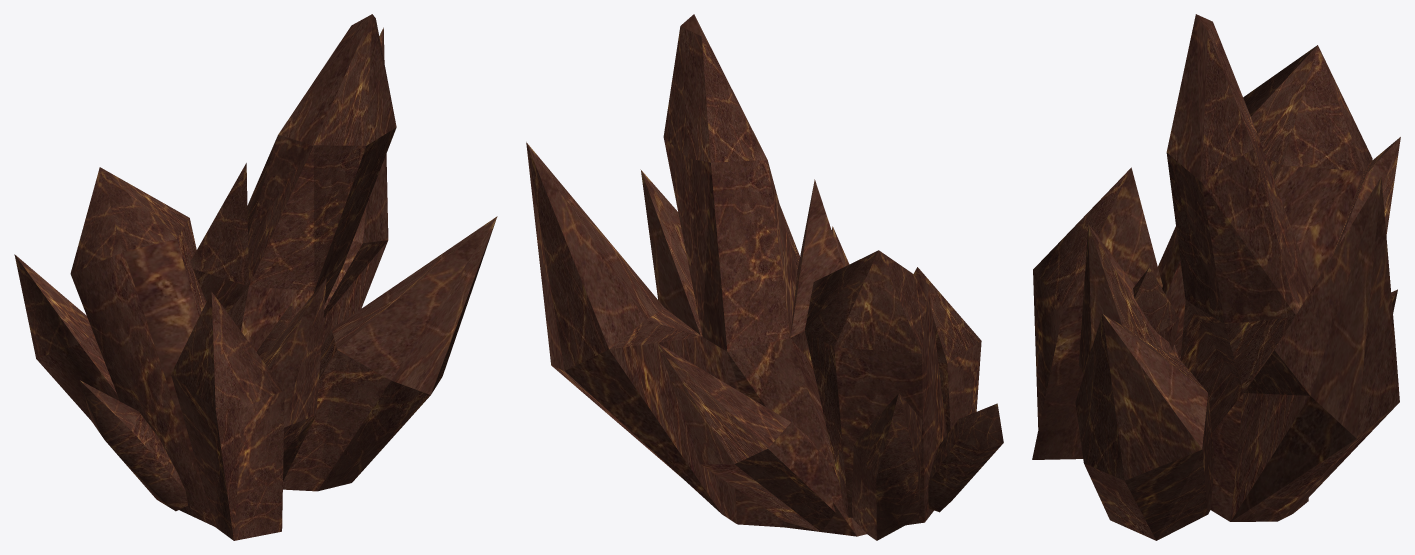
File: charcrystal_00.fbx
The picture shows the model from 3 angles, left to right: view 1: azimuth 30°, elevation 25°; view 2: azimuth 150°, elevation 25°; view 3: azimuth 270°, elevation 25°; orthographic projection. The views are drawn at different scales.
Parts seen in each view (by area): view 1: Geoset_0; view 2: Geoset_0; view 3: Geoset_0.
Boxes of the visible parts, <box> form: Geoset_0: <box>14,14,497,540</box>; Geoset_0: <box>526,14,1003,540</box>; Geoset_0: <box>1032,14,1400,540</box>.
Bounding box in the file's own units: 1.46 × 1.6 × 0.9808.
1 material, 1 textured.
